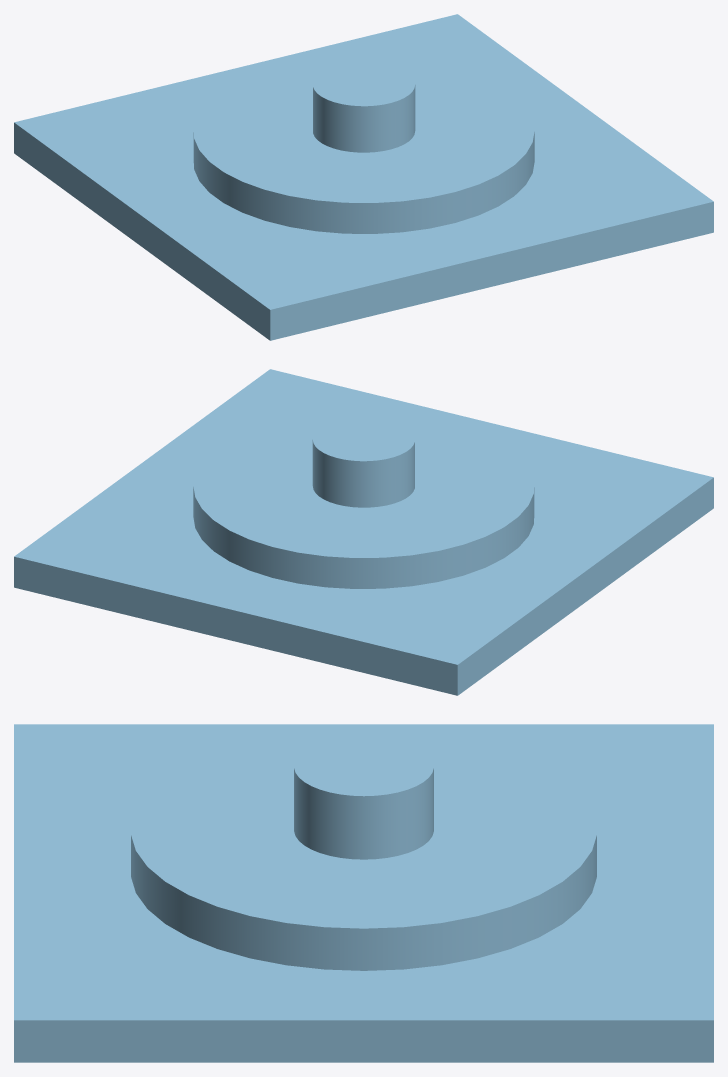
The model's file is GimbalBase.dae.
3 views of the same model, one above another, from view 1: azimuth 30°, elevation 25°; view 2: azimuth 150°, elevation 25°; view 3: azimuth 270°, elevation 25° (orthographic). The views are drawn at different scales.
Visible parts, largest first — view 1: 635f2f4a71f2eb11b36f9ec2 (×3); view 2: 635f2f4a71f2eb11b36f9ec2 (×3); view 3: 635f2f4a71f2eb11b36f9ec2 (×3).
Part boxes in pixels (bbox=[...]): 635f2f4a71f2eb11b36f9ec2 (×3): bbox=[14, 14, 713, 340]; 635f2f4a71f2eb11b36f9ec2 (×3): bbox=[14, 369, 713, 695]; 635f2f4a71f2eb11b36f9ec2 (×3): bbox=[14, 724, 713, 1062].
Bounding box in the file's own units: 0.3 × 0.3 × 0.07.
